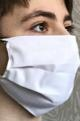with_mask: (2, 1, 80, 121)
